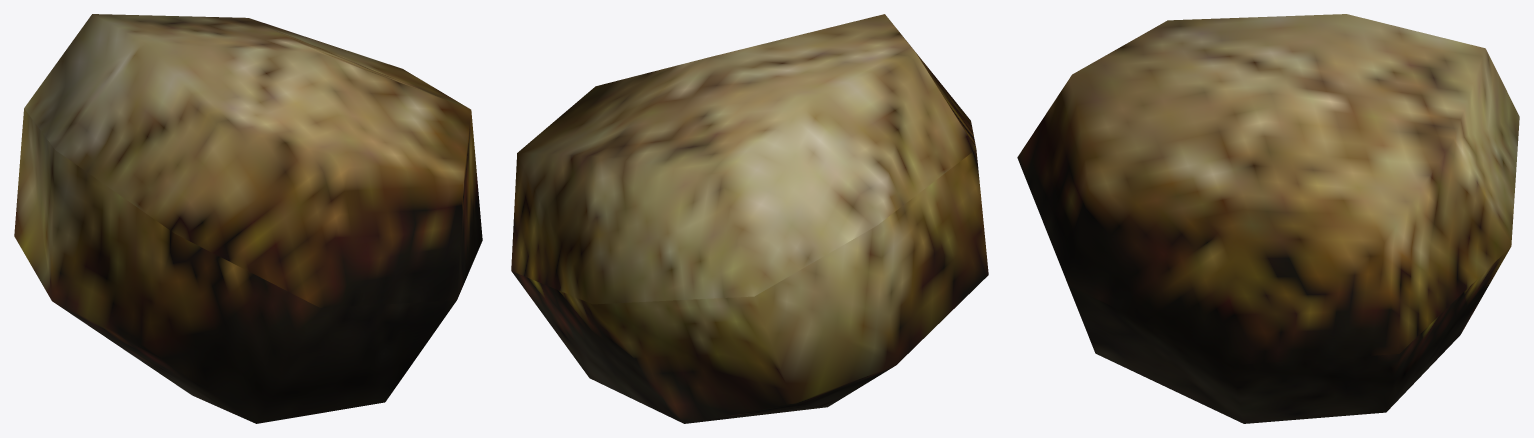
Rendered from stone03.FBX.
3 views of the same model, side by side, from view 1: azimuth 30°, elevation 25°; view 2: azimuth 150°, elevation 25°; view 3: azimuth 270°, elevation 25° (orthographic). The views are drawn at different scales.
Visible parts, largest first — view 1: stone03; view 2: stone03; view 3: stone03.
Boxes of the visible parts, box(x1,y1,x2,y2) form: stone03: box(14, 14, 482, 423); stone03: box(511, 14, 988, 423); stone03: box(1017, 14, 1519, 423).
Size of the model in its own units: 417 by 358 by 502.
